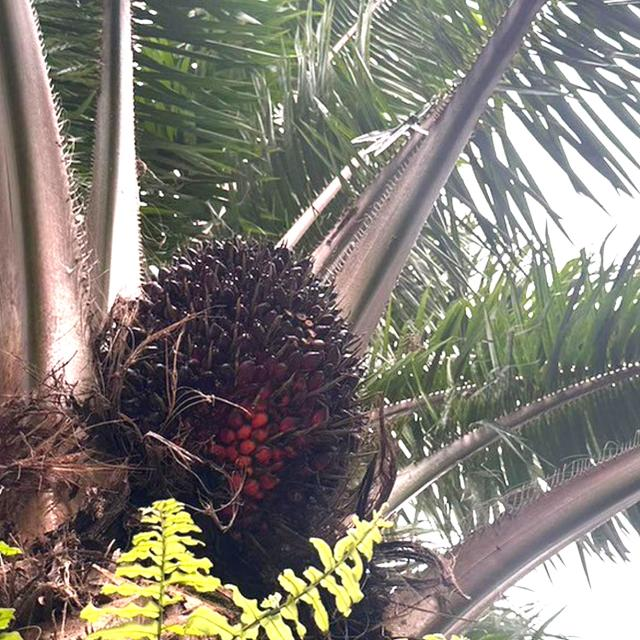ripe: (71, 209, 403, 578)
